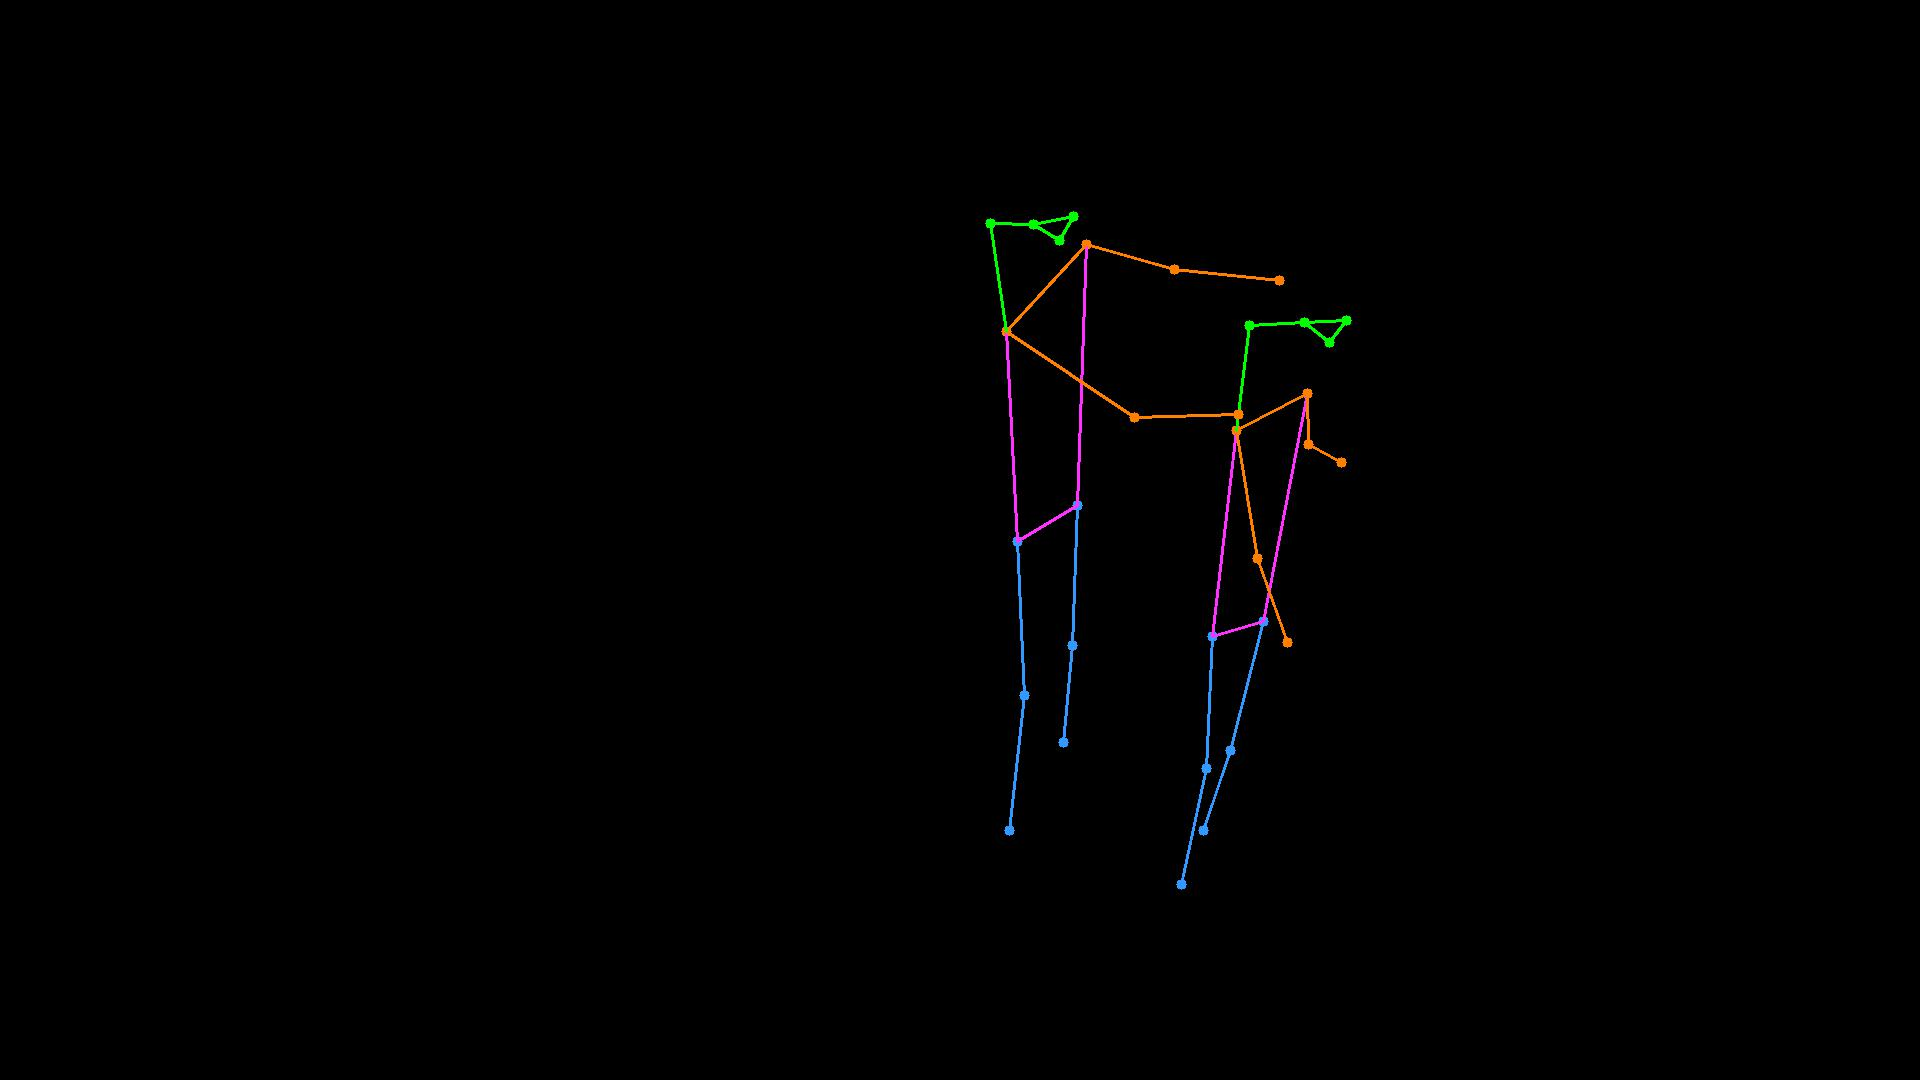normal: (957, 160, 1404, 928)
